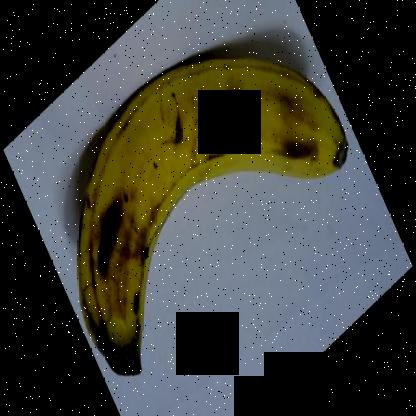ripe: (60, 33, 360, 385)
